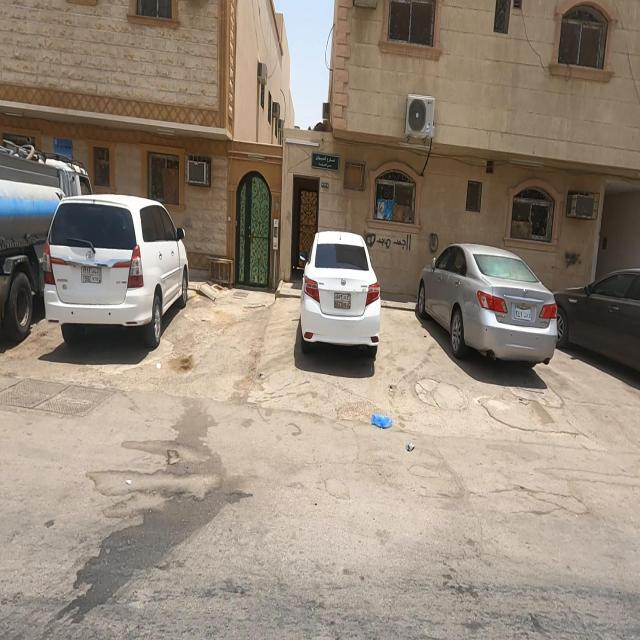Graffiti: (365, 235, 414, 251), (566, 250, 583, 268)
